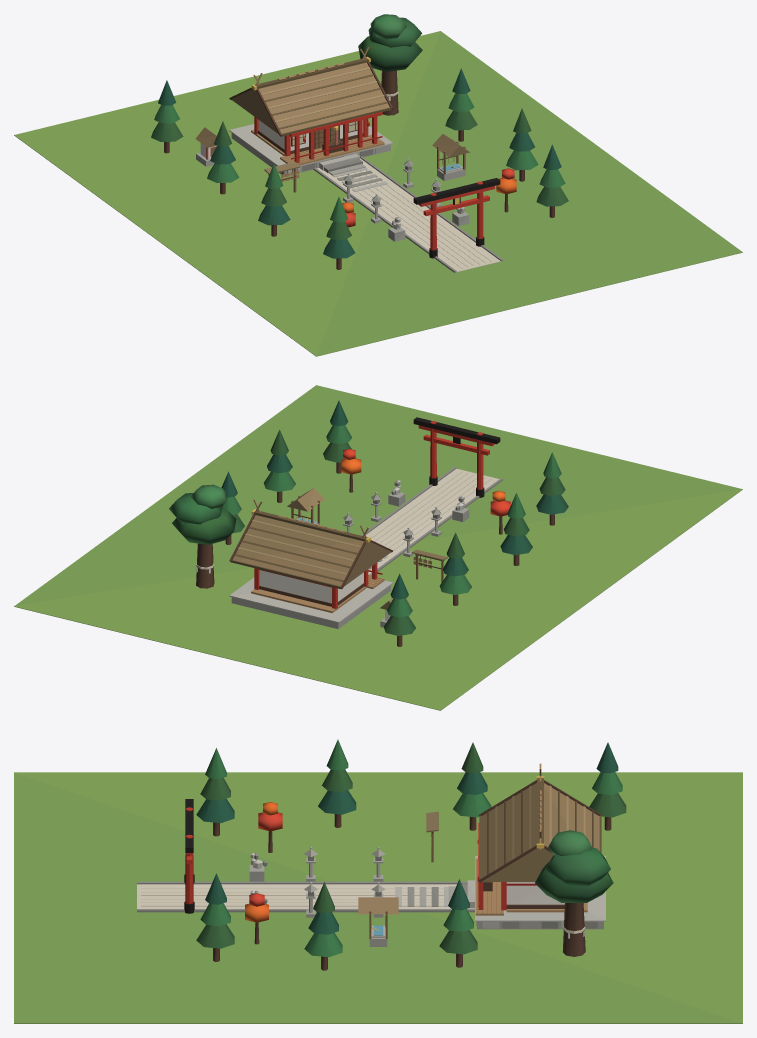
The model's file is japanshrine.glb.
3 views of the same model, one above another, from view 1: azimuth 30°, elevation 25°; view 2: azimuth 150°, elevation 25°; view 3: azimuth 270°, elevation 25° (orthographic). The views are drawn at different scales.
Visible parts, largest first — view 1: Ground, Roof, Approach Gravel, Sacred Canopy Low, Hall Base Cap, Veranda Deck, Sacred Canopy Top, Sacred Canopy Mid, Torii Top Beam; view 2: Ground, Roof, Approach Gravel, Hall Base Cap, Hall Walls, Sacred Canopy Low, Hall Base, Sacred Canopy Mid, Sacred Trunk, Torii Top Beam, Hall Floor, Sacred Canopy Top; view 3: Ground, Roof, Approach Gravel, Sacred Canopy Mid, Sacred Canopy Low, Hall Base Cap, Approach Curb Right, Sacred Trunk, Hall Walls, Sacred Canopy Top, Approach Curb Left, Veranda Deck (+15 smaller).
Part boxes in pixels (box(x1,y1,x2,y2)): Ground: box(14, 31, 742, 356); Roof: box(231, 62, 389, 134); Approach Gravel: box(317, 158, 500, 272); Sacred Canopy Low: box(358, 36, 422, 71); Hall Base Cap: box(229, 124, 393, 166); Veranda Deck: box(280, 134, 384, 165); Sacred Canopy Top: box(370, 14, 406, 39); Sacred Canopy Mid: box(368, 17, 422, 47); Torii Top Beam: box(413, 178, 500, 204); Ground: box(14, 385, 742, 710); Roof: box(232, 515, 390, 586); Approach Gravel: box(364, 468, 499, 574); Hall Base Cap: box(229, 577, 393, 622); Hall Walls: box(259, 570, 363, 606); Sacred Canopy Low: box(172, 508, 236, 544); Hall Base: box(231, 585, 390, 628); Sacred Canopy Mid: box(169, 493, 222, 524); Sacred Trunk: box(196, 543, 214, 588); Torii Top Beam: box(413, 417, 500, 444); Hall Floor: box(251, 586, 365, 613); Sacred Canopy Top: box(191, 484, 227, 508); Ground: box(14, 772, 742, 1023); Roof: box(481, 783, 599, 881); Approach Gravel: box(137, 884, 474, 908); Sacred Canopy Mid: box(545, 848, 610, 885); Sacred Canopy Low: box(535, 861, 613, 902); Hall Base Cap: box(475, 856, 605, 921); Approach Curb Right: box(137, 881, 467, 884); Sacred Trunk: box(562, 903, 585, 956); Hall Walls: box(506, 882, 564, 904); Sacred Canopy Top: box(548, 830, 592, 855); Approach Curb Left: box(137, 909, 474, 912); Veranda Deck: box(475, 858, 503, 915).
Size of the model in its own units: 44 by 9.6 by 54.
